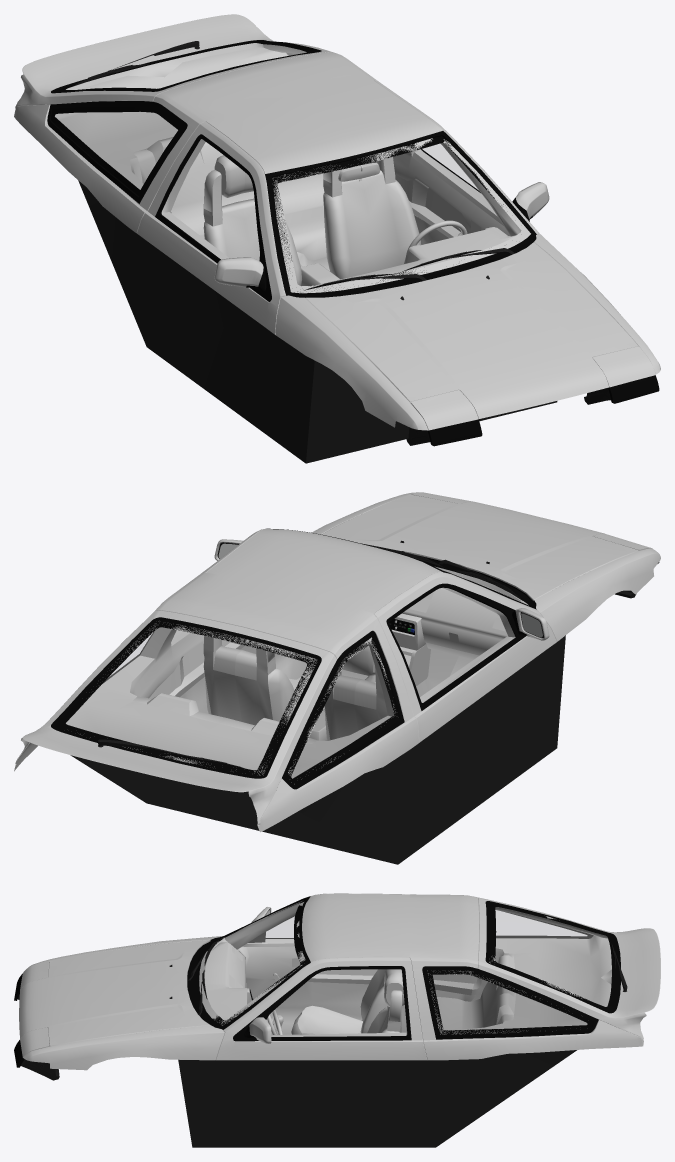
Rendered from RMCarDemoInterior.FBX.
3 views of the same model, one above another, from view 1: azimuth 30°, elevation 25°; view 2: azimuth 150°, elevation 25°; view 3: azimuth 270°, elevation 25° (orthographic). The views are drawn at different scales.
Parts seen in each view (by area): view 1: RMCDemo_Paint_LOD0, RMCDemo_Interior_LOD0, RMCDemo_Body_LOD0, RMCDemo_WindowsI_LOD0, RMCDemo_PaintHeadlightRight_LOD0, RMCDemo_PaintHeadlightLeft_LOD0, RMCDemo_HeadlightOpenRight_LOD0, RMCDemo_HeadlightOpenLeft_LOD0; view 2: RMCDemo_Paint_LOD0, RMCDemo_Body_LOD0, RMCDemo_Interior_LOD0, RMCDemo_WindowsI_LOD0; view 3: RMCDemo_Paint_LOD0, RMCDemo_Body_LOD0, RMCDemo_Interior_LOD0, RMCDemo_WindowsI_LOD0, RMCDemo_HeadlightOpenLeft_LOD0, RMCDemo_PaintHeadlightLeft_LOD0, RMCDemo_PaintHeadlightRight_LOD0.
Part boxes in pixels (x1,y1,x2,y2): RMCDemo_Paint_LOD0: (14,14,660,430); RMCDemo_Interior_LOD0: (55,43,530,293); RMCDemo_Body_LOD0: (47,40,557,463); RMCDemo_WindowsI_LOD0: (55,112,477,189); RMCDemo_PaintHeadlightRight_LOD0: (411,390,478,430); RMCDemo_PaintHeadlightLeft_LOD0: (593,346,655,387); RMCDemo_HeadlightOpenRight_LOD0: (406,419,482,446); RMCDemo_HeadlightOpenLeft_LOD0: (584,375,659,404); RMCDemo_Paint_LOD0: (14,492,660,832); RMCDemo_Body_LOD0: (51,528,565,864); RMCDemo_Interior_LOD0: (66,566,528,784); RMCDemo_WindowsI_LOD0: (115,563,445,777); RMCDemo_Paint_LOD0: (19,893,660,1070); RMCDemo_Body_LOD0: (169,896,627,1147); RMCDemo_Interior_LOD0: (199,901,611,1036); RMCDemo_WindowsI_LOD0: (266,911,586,1029); RMCDemo_HeadlightOpenLeft_LOD0: (14,1040,59,1080); RMCDemo_PaintHeadlightLeft_LOD0: (20,1027,49,1057); RMCDemo_PaintHeadlightRight_LOD0: (20,961,49,989).
Bounding box in the file's own units: 186 × 409 × 125.
